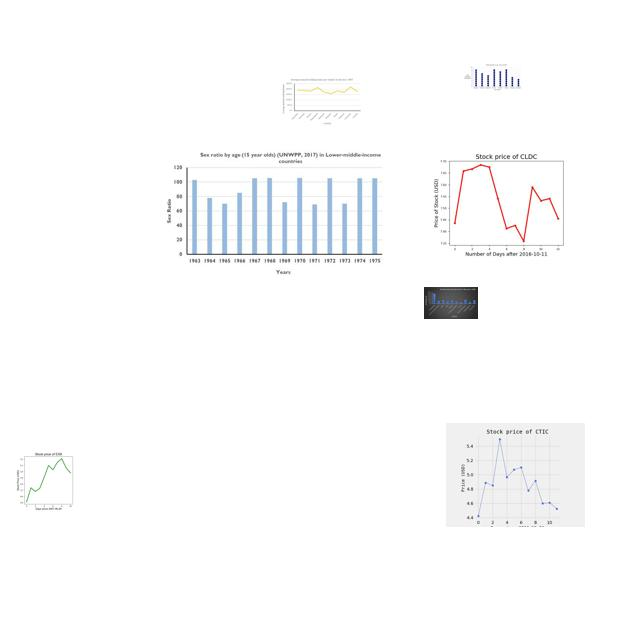Graph: (160, 143, 386, 278), (425, 148, 584, 257), (446, 423, 585, 527), (6, 449, 89, 511), (282, 77, 362, 125), (424, 287, 478, 319), (464, 64, 522, 91)
